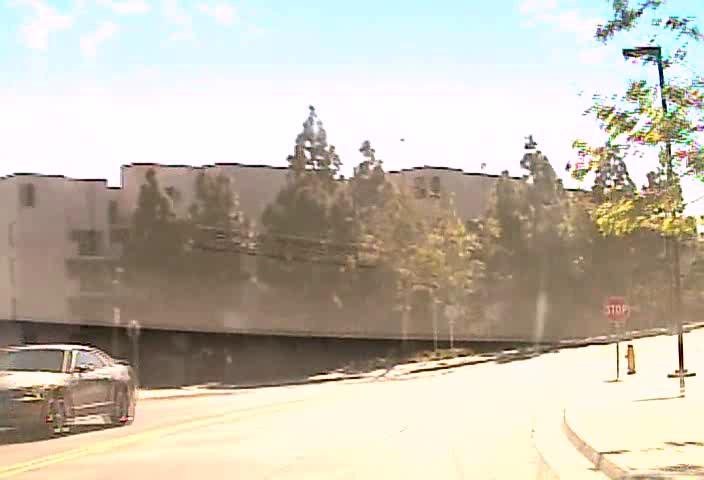stop: (602, 296, 630, 322)
